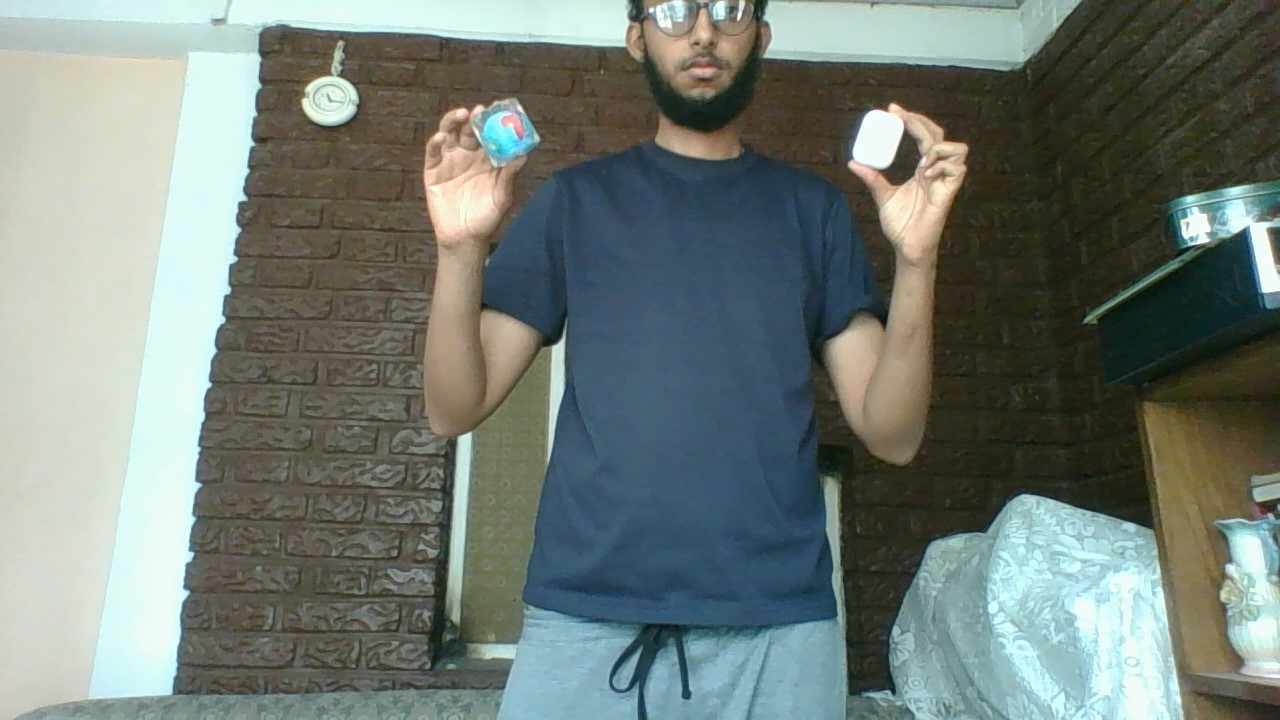Air_pod: (850, 107, 907, 172)
world_globe: (469, 96, 542, 170)
